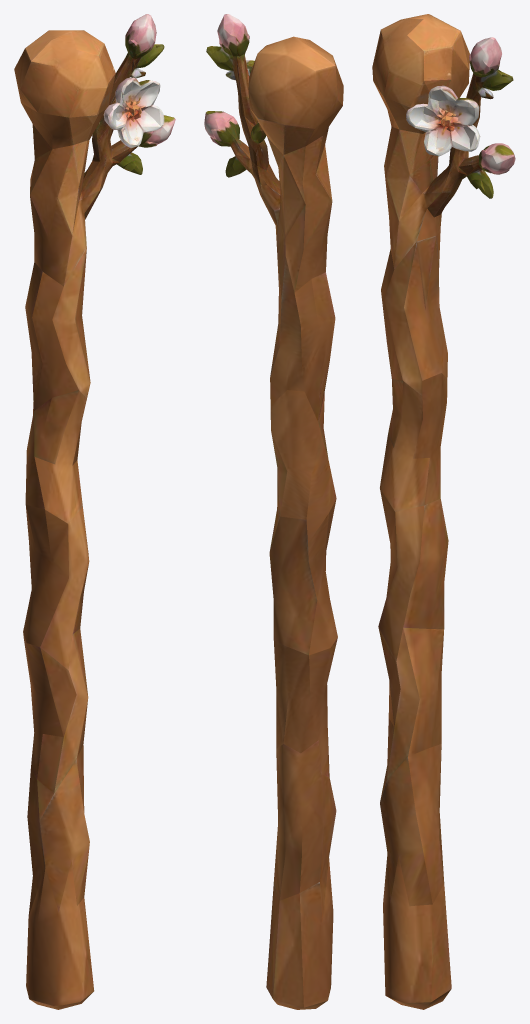
The model's file is staff-budding.glb.
The picture shows the model from 3 angles, left to right: view 1: azimuth 30°, elevation 25°; view 2: azimuth 150°, elevation 25°; view 3: azimuth 330°, elevation 25°; orthographic projection. The views are drawn at different scales.
Bounding box in the file's own units: 0.2944 × 1.9 × 0.1915.
Materials: 1 (1 with a texture image).
